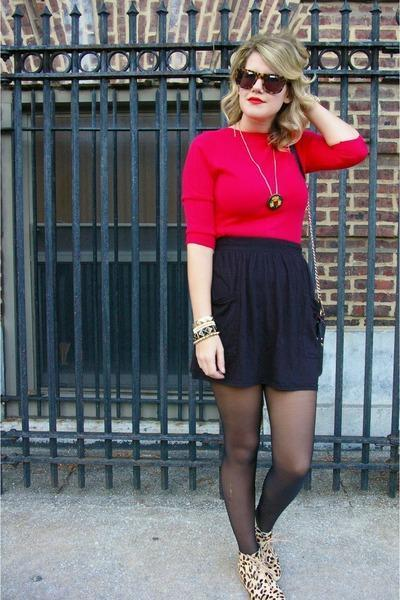shirt: (182, 128, 367, 248)
shoe: (238, 550, 277, 599)
shorts: (211, 235, 324, 398)
sunglass: (234, 60, 297, 107)
